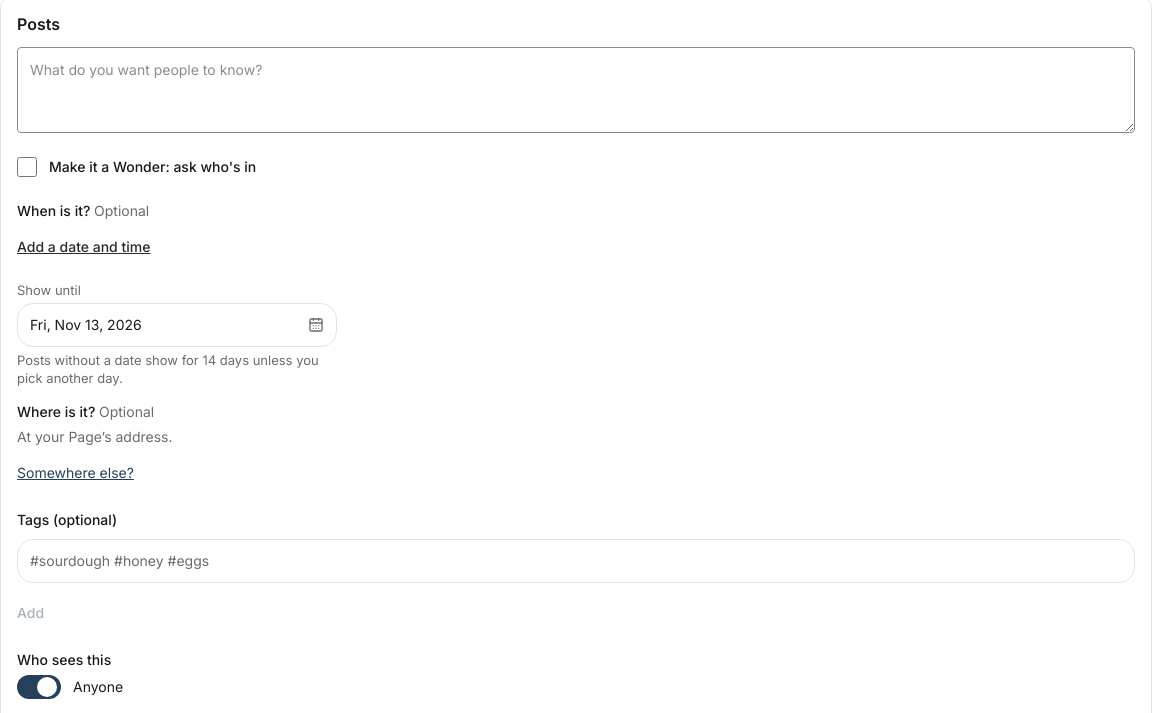
Scenario: who sees this › counts the people at the restricted setting
Click the switch with test id "announce-audience-switch".
click(39, 687)  # box [17,675,61,699]
(page scrolled)
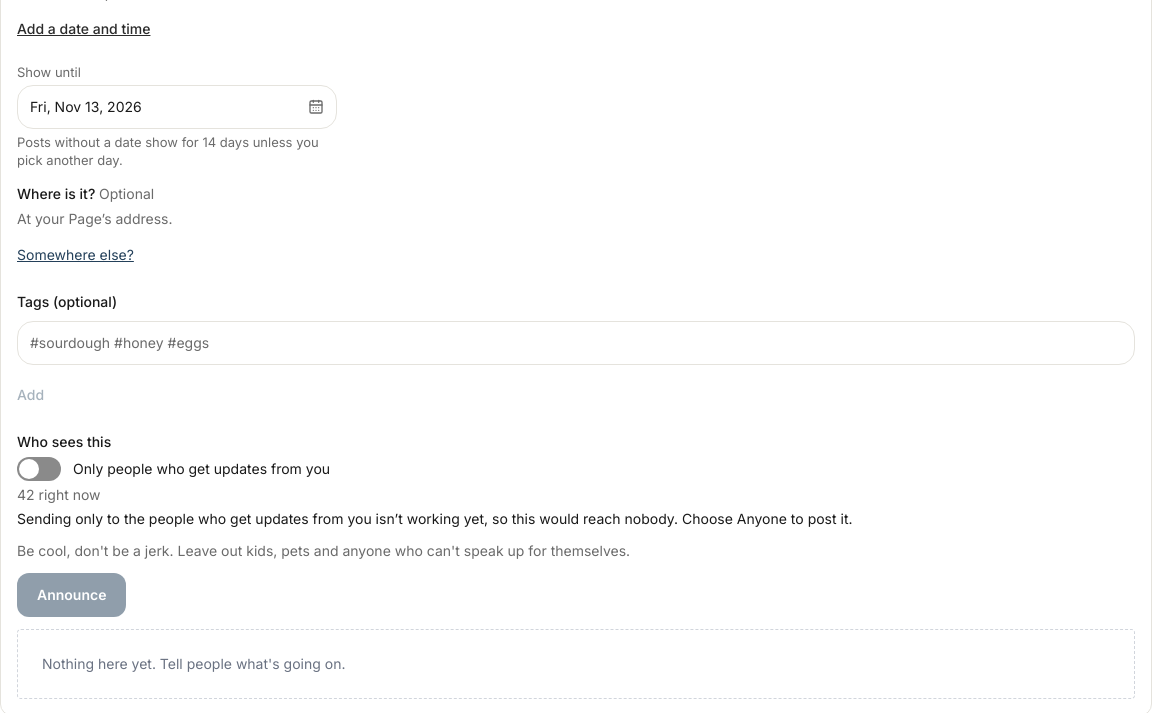
Now the text with test id "announce-audience-count" reads "42 right now", box [17,486,101,503]
